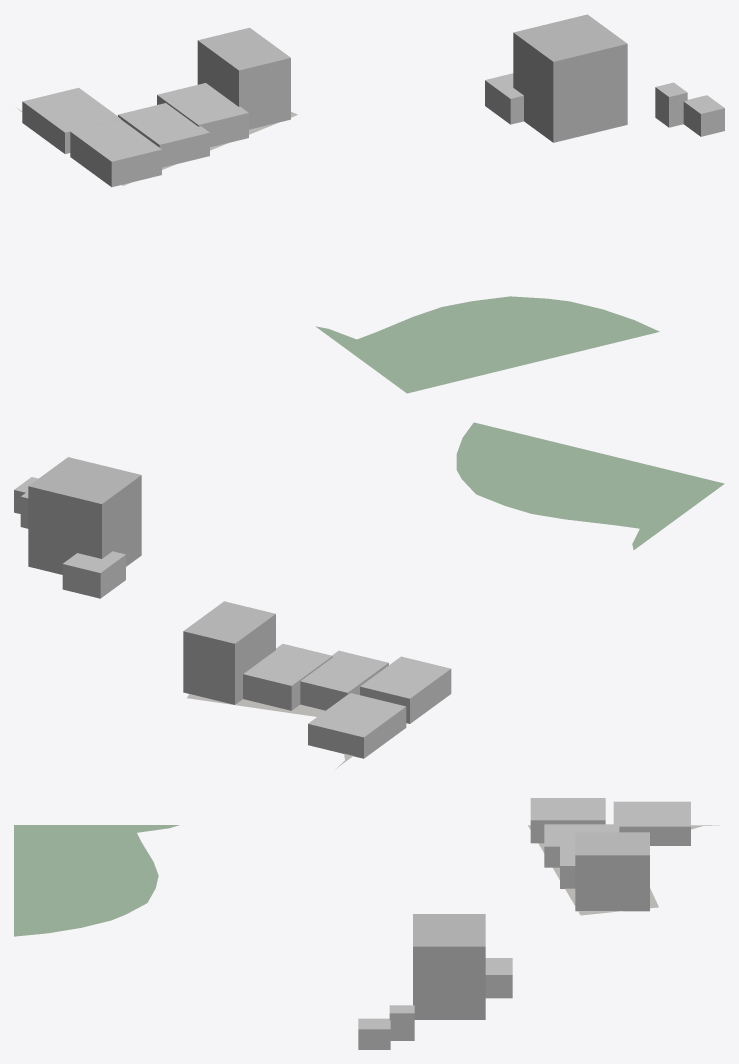
Rendered from 140_114_mid.glb.
3 views of the same model, one above another, from view 1: azimuth 30°, elevation 25°; view 2: azimuth 150°, elevation 25°; view 3: azimuth 270°, elevation 25° (orthographic). The views are drawn at different scales.
Bounding box in the file's own units: 368 × 55.26 × 484.
